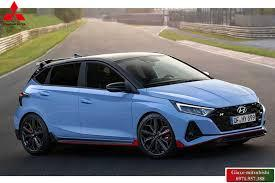hyundai: (231, 102, 249, 115)
